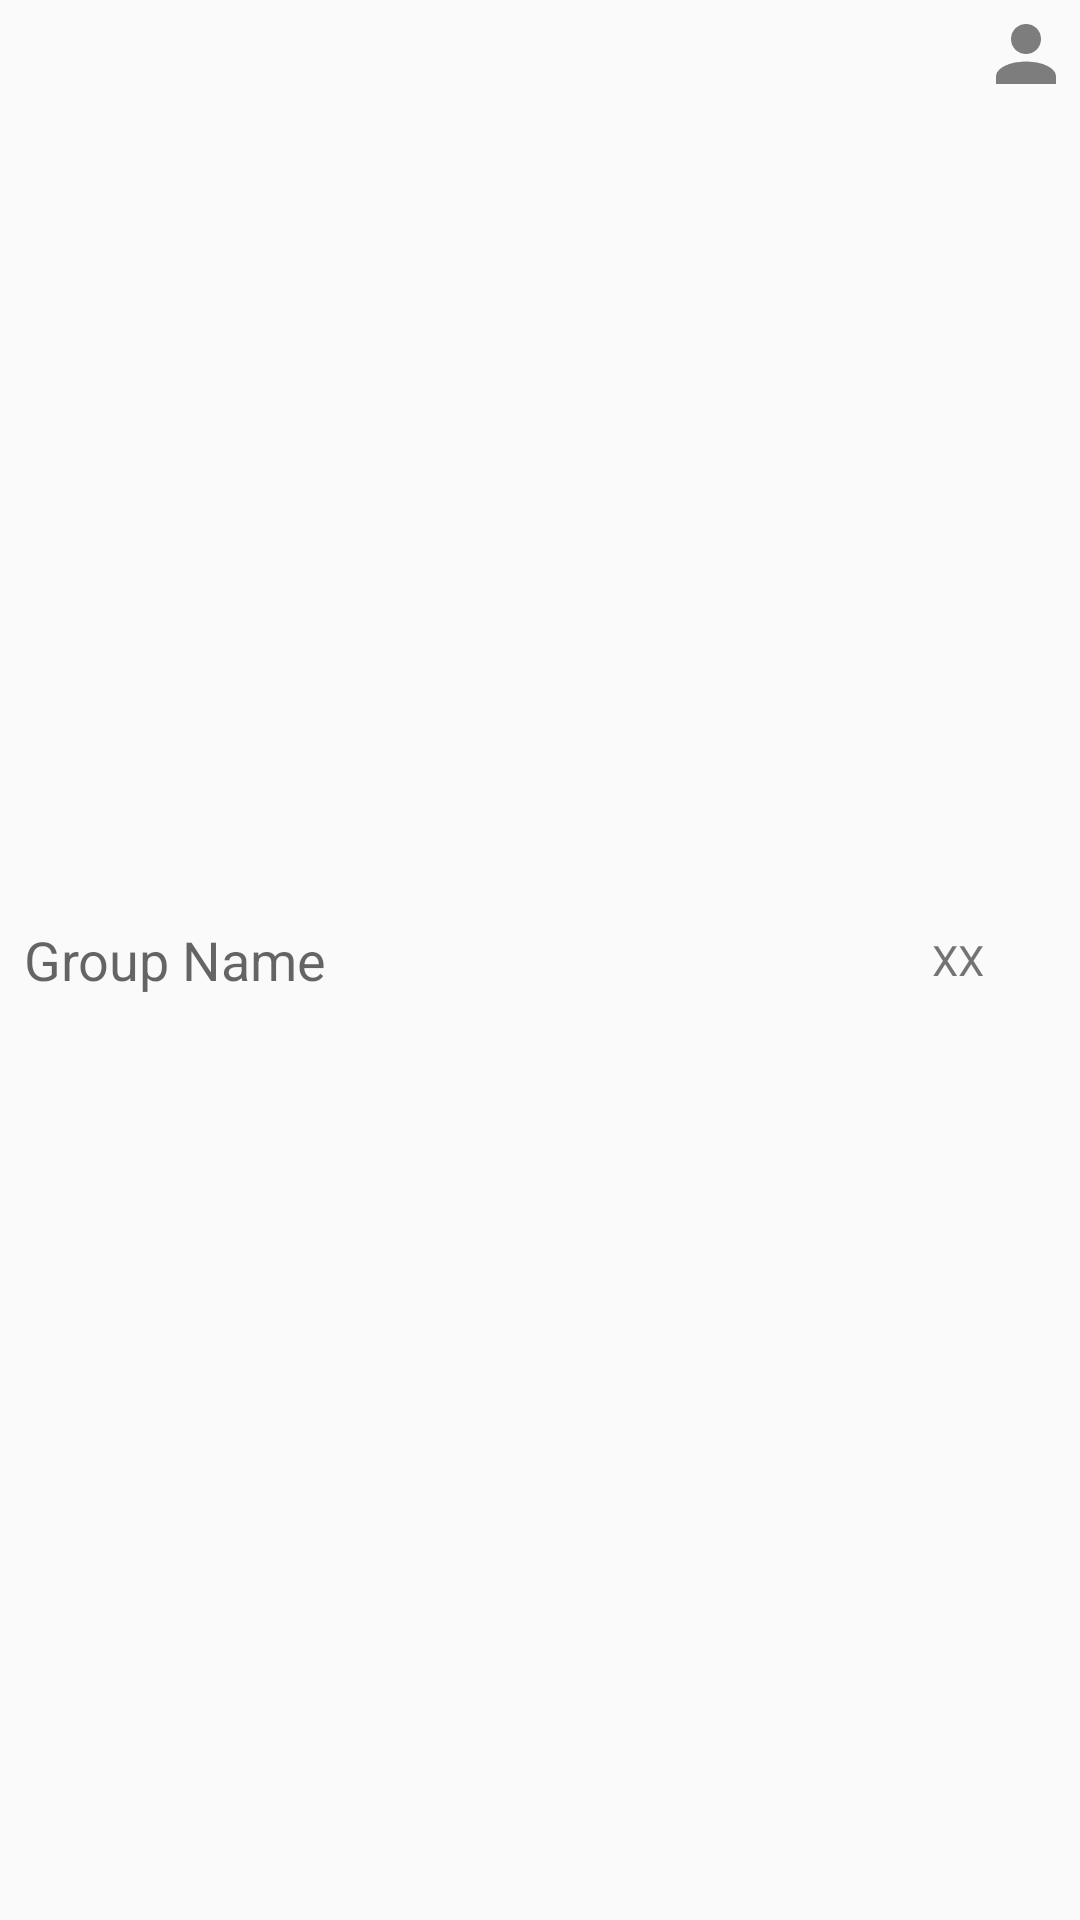

Named icons in this screenshot (1080 × 1920) and their bounding boxes, (x1, y1, x2, y2):
person: (996, 24, 1056, 84)
